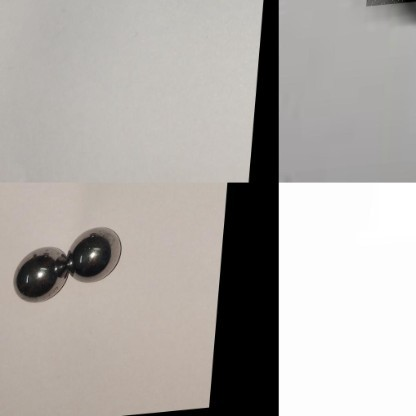ironball: (63, 224, 131, 285), (9, 242, 70, 304)
